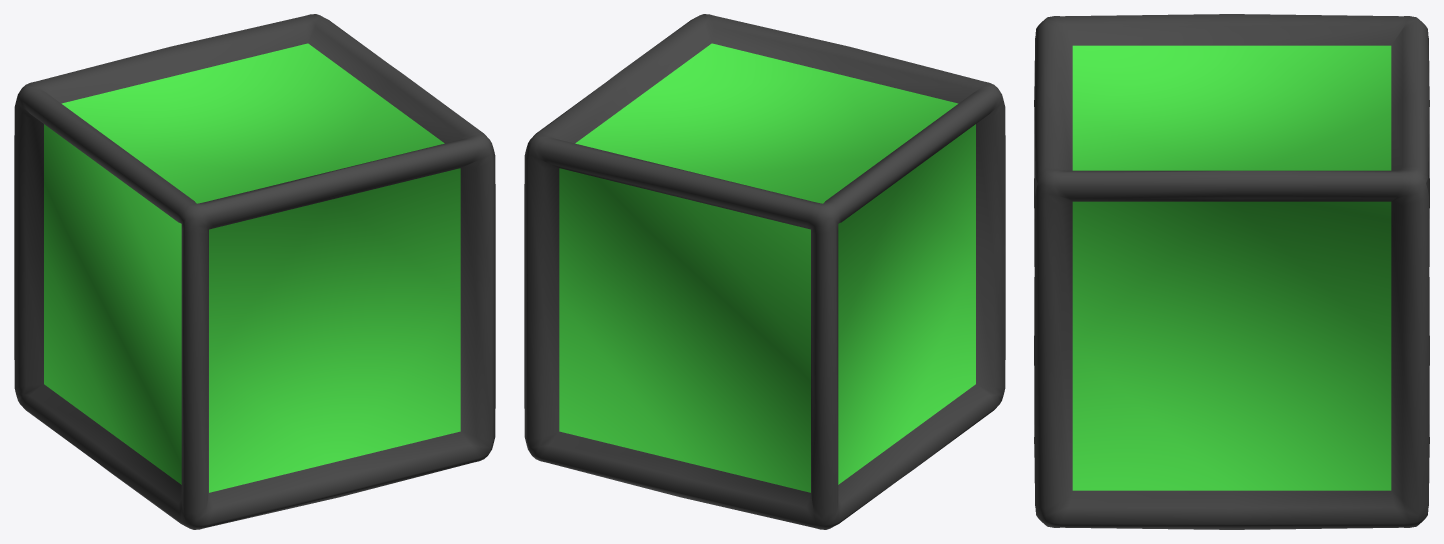
The model's file is word_cube.glb.
The picture shows the model from 3 angles, left to right: view 1: azimuth 30°, elevation 25°; view 2: azimuth 150°, elevation 25°; view 3: azimuth 270°, elevation 25°; orthographic projection. The views are drawn at different scales.
Parts seen in each view (by area): view 1: Cube; view 2: Cube; view 3: Cube.
Part boxes in pixels (<box>): Cube: <box>14,14,495,529</box>; Cube: <box>524,14,1005,529</box>; Cube: <box>1034,14,1429,529</box>.
Size of the model in its own units: 1.96 by 1.96 by 1.96.
